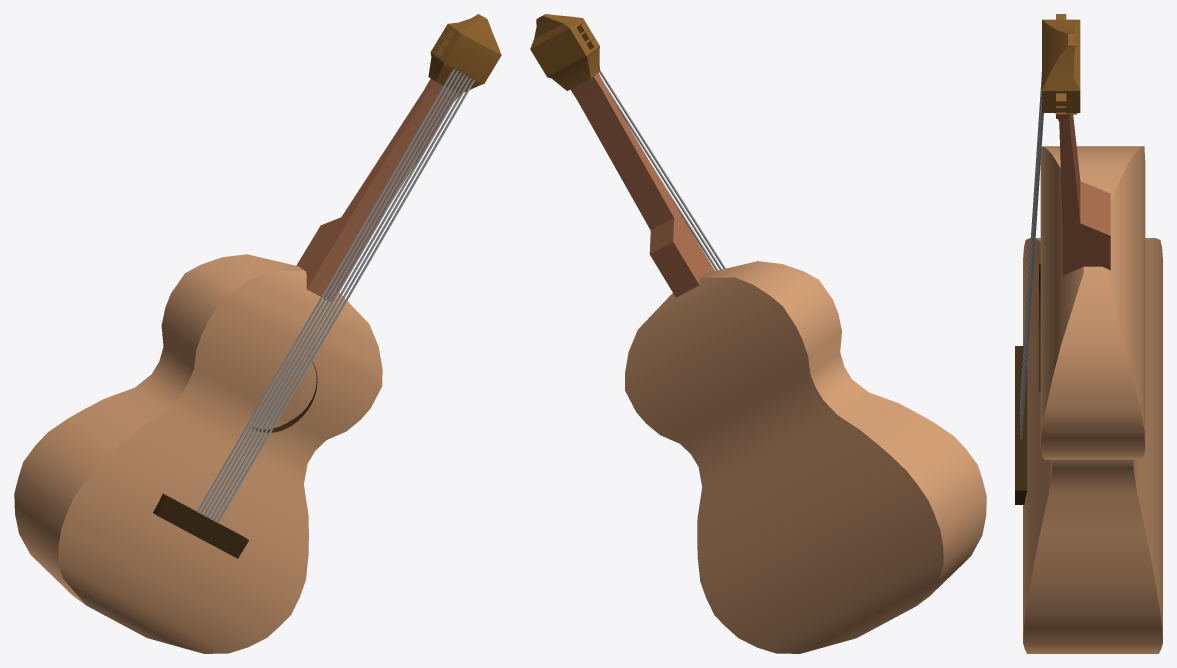
File: Guitar.fbx
The picture shows the model from 3 angles, left to right: view 1: azimuth 30°, elevation 25°; view 2: azimuth 150°, elevation 25°; view 3: azimuth 270°, elevation 25°; orthographic projection. The views are drawn at different scales.
Parts seen in each view (by area): view 1: guitar1; view 2: guitar1; view 3: guitar1.
Part boxes in pixels (x1,y1,x2,y2): guitar1: (14, 14, 501, 653); guitar1: (530, 14, 986, 653); guitar1: (1015, 14, 1162, 653).
Bounding box in the file's own units: 5.09 × 6.13 × 1.04.
